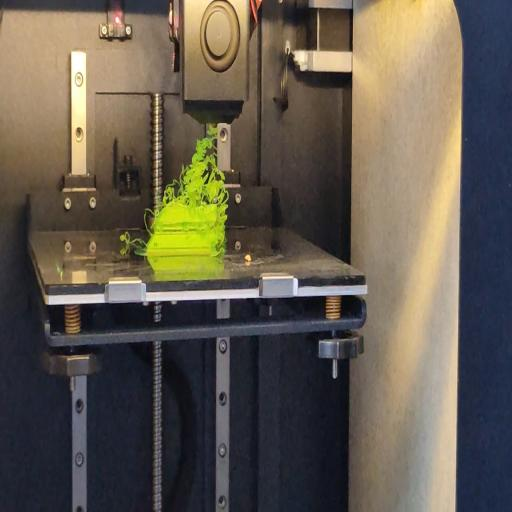spaghetti: (161, 121, 228, 205), (215, 203, 227, 258), (118, 229, 146, 248), (142, 208, 154, 236)
